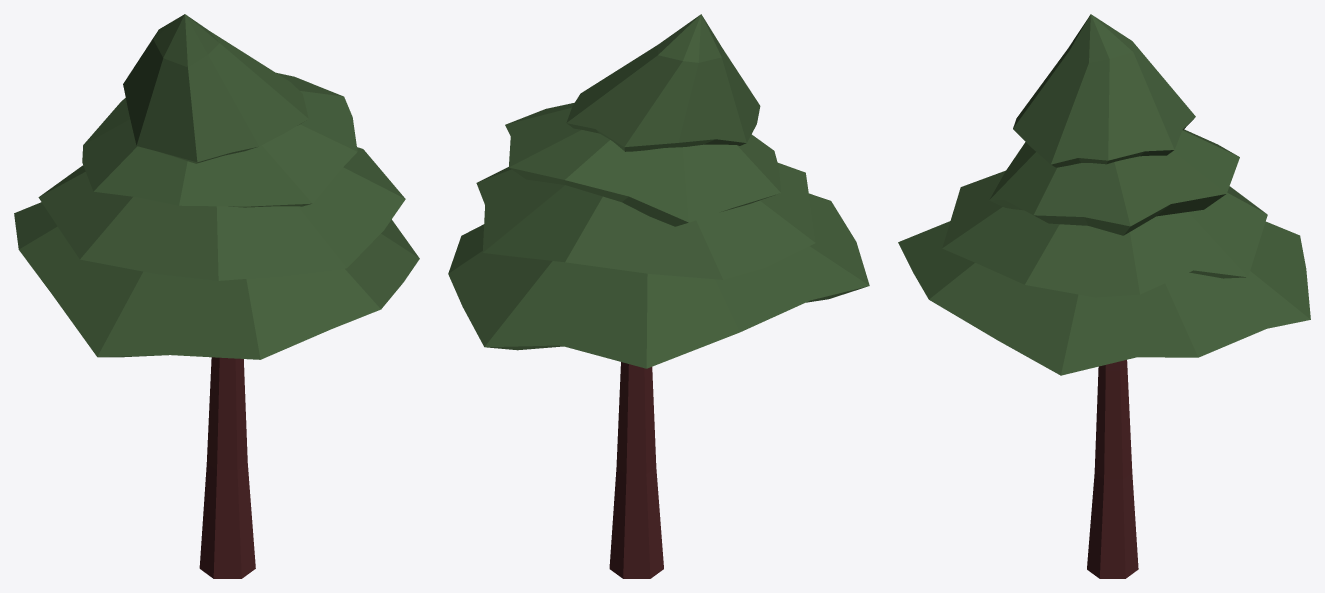
File: pine3.fbx
3 renders of one model, left to right at view 1: azimuth 30°, elevation 25°; view 2: azimuth 150°, elevation 25°; view 3: azimuth 270°, elevation 25°, orthographic. The views are drawn at different scales.
Parts seen in each view (by area): view 1: Spruce3; view 2: Spruce3; view 3: Spruce3.
Part boxes in pixels (left/top/right/bottom): Spruce3: left=14, top=14, right=419, bottom=578; Spruce3: left=448, top=14, right=869, bottom=578; Spruce3: left=898, top=14, right=1310, bottom=578.
Bounding box in the file's own units: 431 × 673 × 474.
